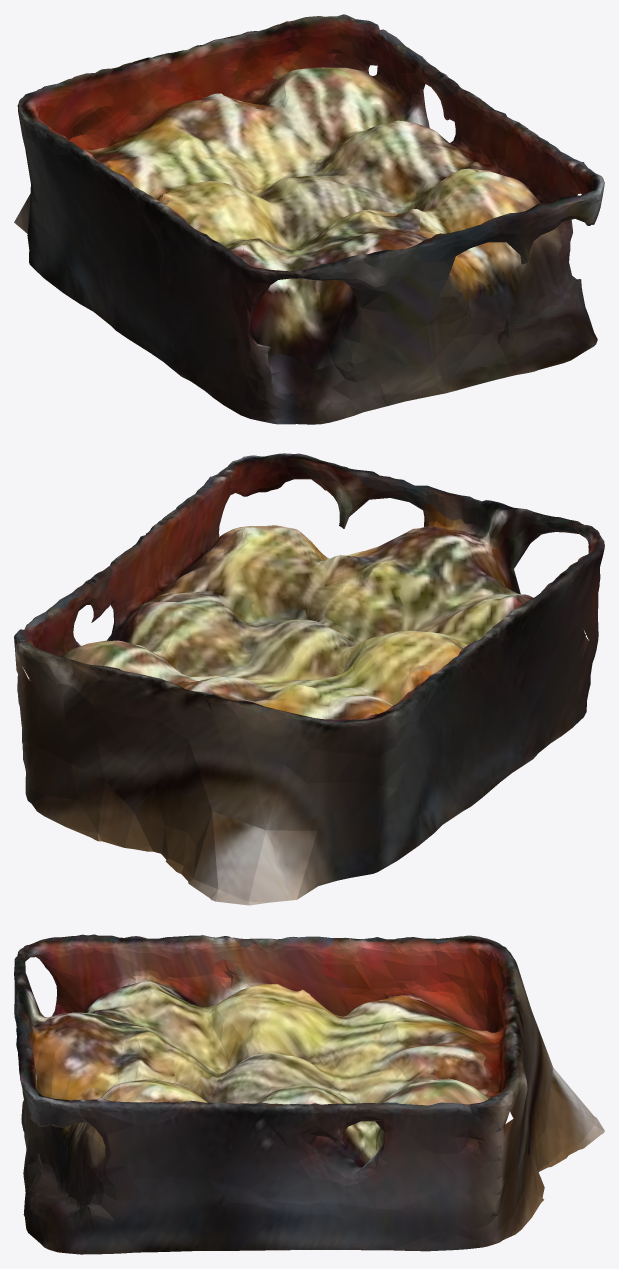
Rendered from somsa.glb.
3 views of the same model, one above another, from view 1: azimuth 30°, elevation 25°; view 2: azimuth 150°, elevation 25°; view 3: azimuth 270°, elevation 25° (orthographic). The views are drawn at different scales.
Parts seen in each view (by area): view 1: mesh; view 2: mesh; view 3: mesh.
Boxes of the visible parts, box(x1,y1,x2,y2) form: mesh: box(14, 14, 604, 424); mesh: box(14, 453, 604, 905); mesh: box(14, 934, 604, 1254).
Size of the model in its own units: 0.1252 by 0.0523 by 0.18.
1 material, 1 textured.
